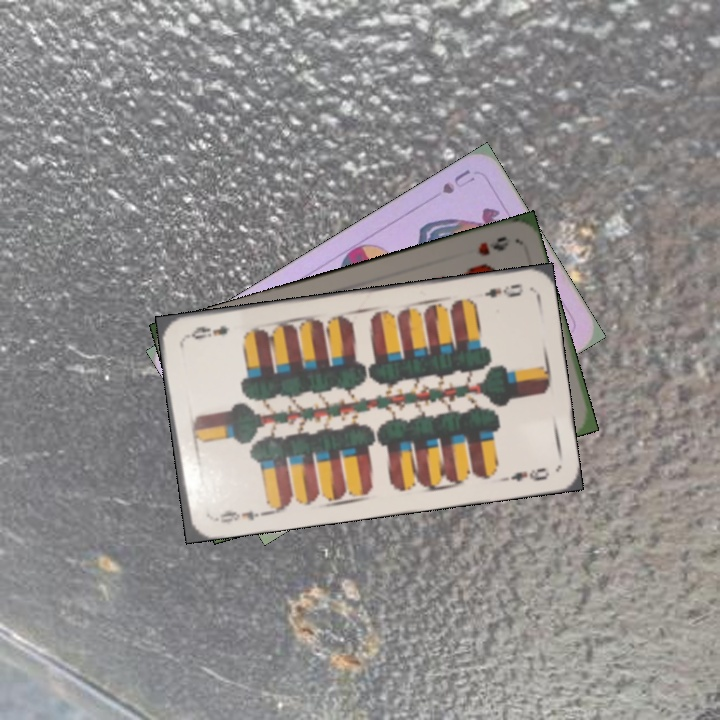E9: (208, 506, 267, 526), (480, 279, 526, 301)
H9: (474, 232, 512, 258)
SU: (438, 165, 477, 197)
